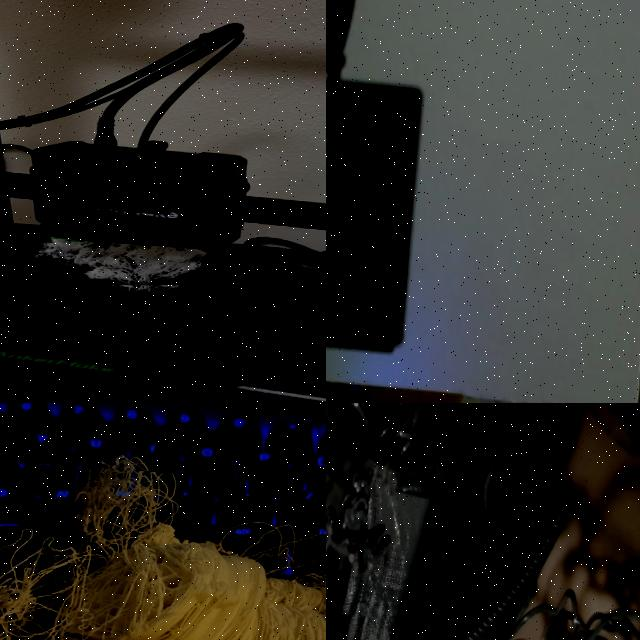spaghetti: (0, 456, 326, 640), (326, 403, 407, 627), (32, 237, 216, 298), (514, 567, 640, 640)
